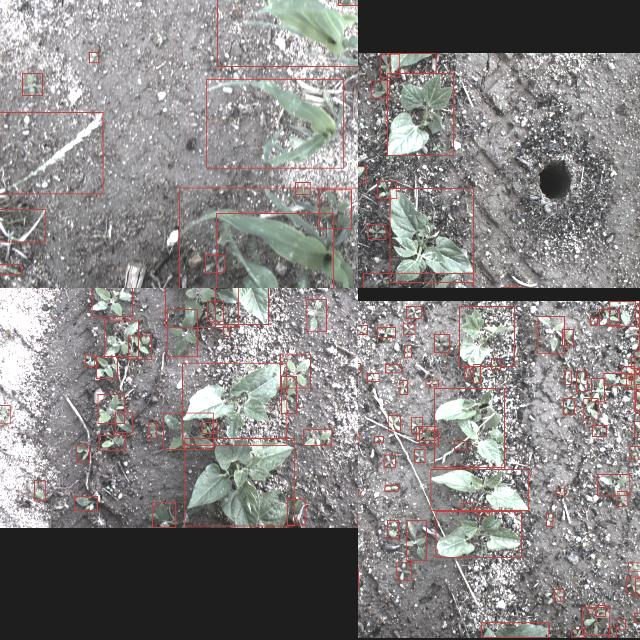crop: (179, 187, 358, 288), (206, 78, 344, 168), (184, 438, 294, 526), (217, 0, 358, 65), (216, 212, 333, 288), (182, 362, 288, 444), (390, 188, 472, 282), (386, 72, 454, 154), (434, 388, 504, 467), (431, 468, 529, 509), (436, 511, 522, 557), (460, 305, 514, 365), (165, 288, 238, 326), (215, 288, 269, 324), (362, 272, 473, 288), (482, 622, 548, 638), (390, 52, 436, 72)
weed: (0, 111, 103, 193), (163, 412, 213, 450), (166, 308, 198, 356), (0, 208, 45, 241), (105, 319, 139, 355), (319, 190, 351, 228), (92, 288, 132, 315), (280, 354, 310, 388), (538, 316, 564, 352), (407, 520, 427, 560), (582, 607, 610, 635), (98, 393, 124, 422), (598, 473, 630, 495), (307, 298, 327, 332), (610, 300, 636, 326), (152, 502, 175, 528), (128, 335, 152, 359), (282, 376, 296, 412), (96, 356, 118, 378), (22, 72, 42, 96), (380, 53, 400, 77), (287, 499, 305, 525), (99, 434, 125, 450), (304, 430, 332, 444), (377, 180, 397, 198), (207, 300, 223, 322), (74, 496, 98, 510), (206, 254, 224, 272), (372, 79, 390, 97), (116, 412, 132, 432), (599, 308, 619, 324), (604, 372, 630, 384), (584, 397, 598, 419), (396, 562, 412, 580), (434, 333, 450, 351), (592, 377, 604, 401), (416, 426, 436, 440), (419, 430, 438, 444), (368, 224, 386, 238), (626, 576, 640, 594), (576, 371, 588, 391), (76, 445, 90, 461), (626, 373, 640, 389), (0, 264, 21, 274), (35, 480, 45, 500), (388, 414, 400, 430), (563, 397, 575, 413), (562, 329, 574, 345), (406, 305, 422, 317), (388, 520, 398, 538), (377, 326, 395, 336), (296, 182, 310, 194), (592, 424, 606, 436), (384, 454, 396, 468), (414, 448, 426, 462), (0, 405, 9, 423), (202, 422, 218, 432), (617, 490, 627, 506), (385, 363, 401, 372), (622, 365, 634, 377), (412, 418, 422, 432), (358, 165, 366, 182), (474, 363, 481, 382), (403, 322, 415, 333), (630, 445, 640, 458), (476, 506, 489, 516), (149, 422, 157, 438), (85, 354, 95, 366), (554, 589, 564, 601), (400, 379, 408, 393), (404, 344, 412, 358), (635, 390, 640, 412), (367, 372, 379, 381), (564, 371, 572, 384), (491, 358, 501, 368), (596, 606, 606, 616), (631, 356, 640, 367), (572, 629, 584, 637), (546, 514, 554, 526), (454, 441, 466, 449), (634, 420, 640, 436), (628, 563, 640, 571), (461, 502, 473, 510), (358, 324, 368, 333), (385, 485, 399, 491), (426, 379, 438, 386), (90, 52, 98, 62), (617, 619, 625, 629), (609, 627, 617, 637), (464, 367, 470, 378), (556, 487, 564, 495), (590, 316, 598, 324), (223, 326, 229, 336), (374, 436, 384, 442), (634, 612, 640, 621), (588, 608, 596, 614), (358, 362, 361, 371)
